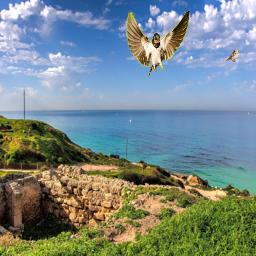Sparrow: (226, 50, 239, 62)
Swallow: (127, 11, 190, 77)
